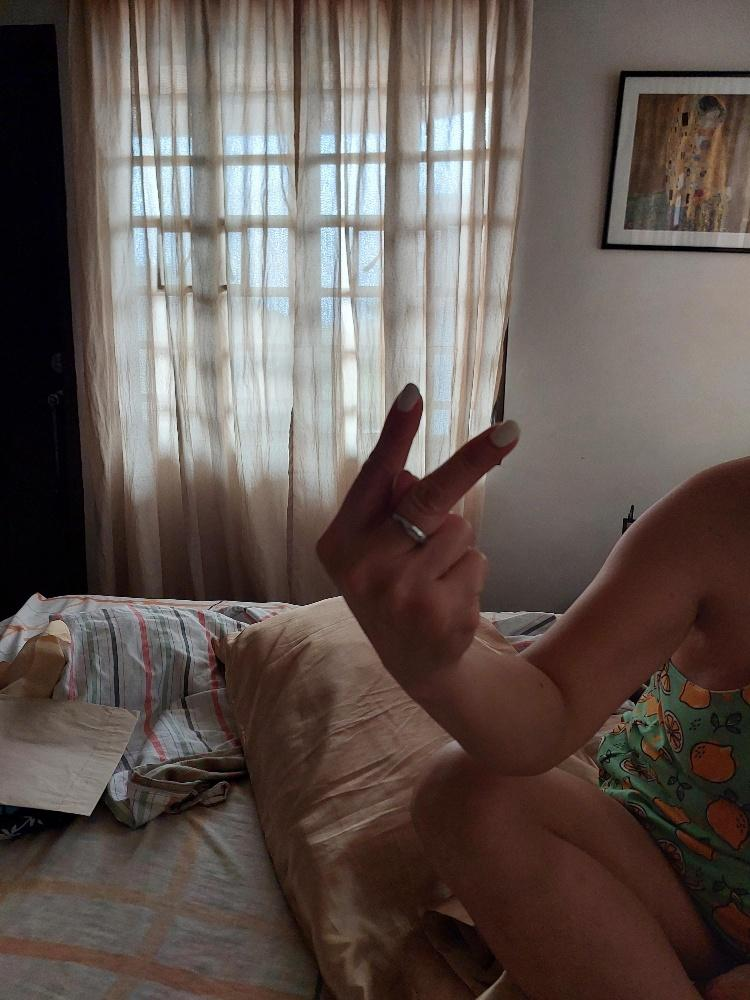k: (308, 379, 526, 671)
